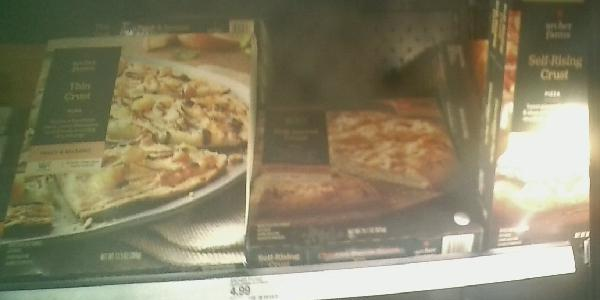pizza1: (5, 9, 253, 268), (250, 100, 480, 254)
